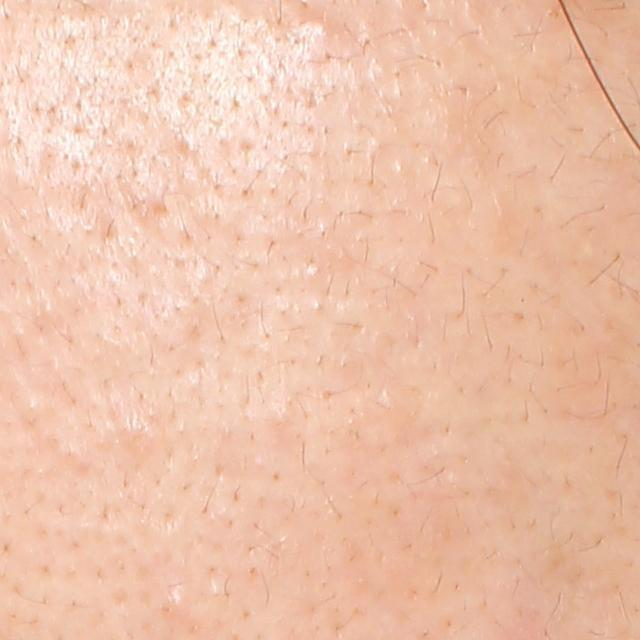comedo: (112, 417, 158, 461), (152, 583, 198, 622), (301, 10, 334, 45)
